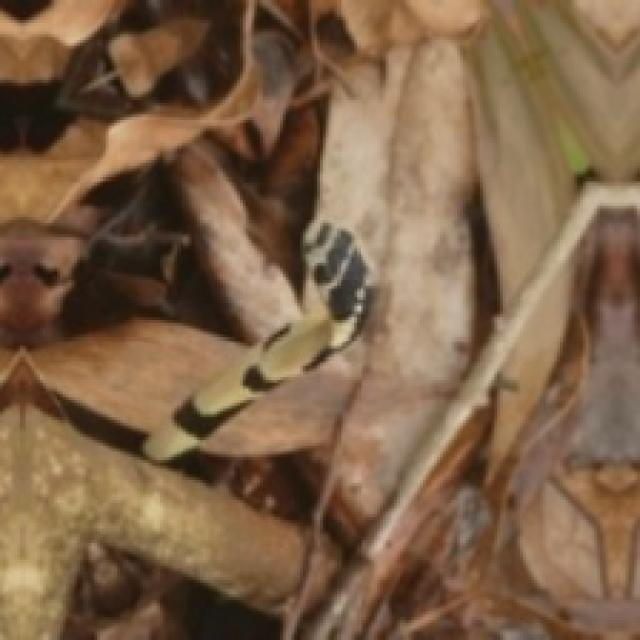king cobra: (143, 223, 366, 460)
